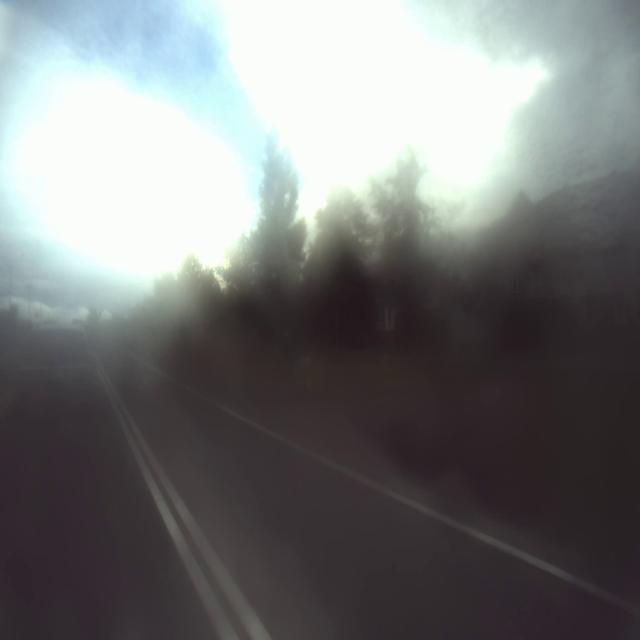car: (15, 317, 97, 428)
